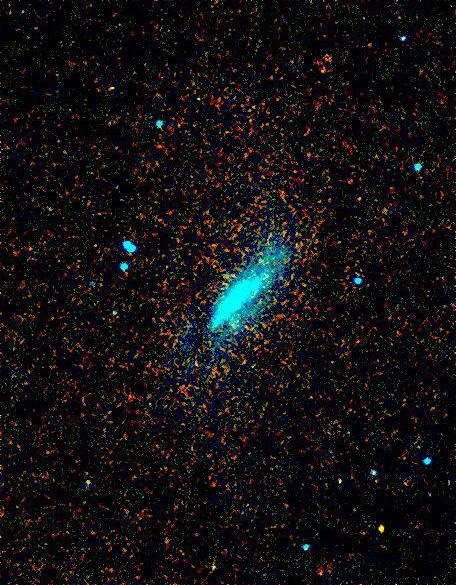star: (367, 513, 397, 543)
